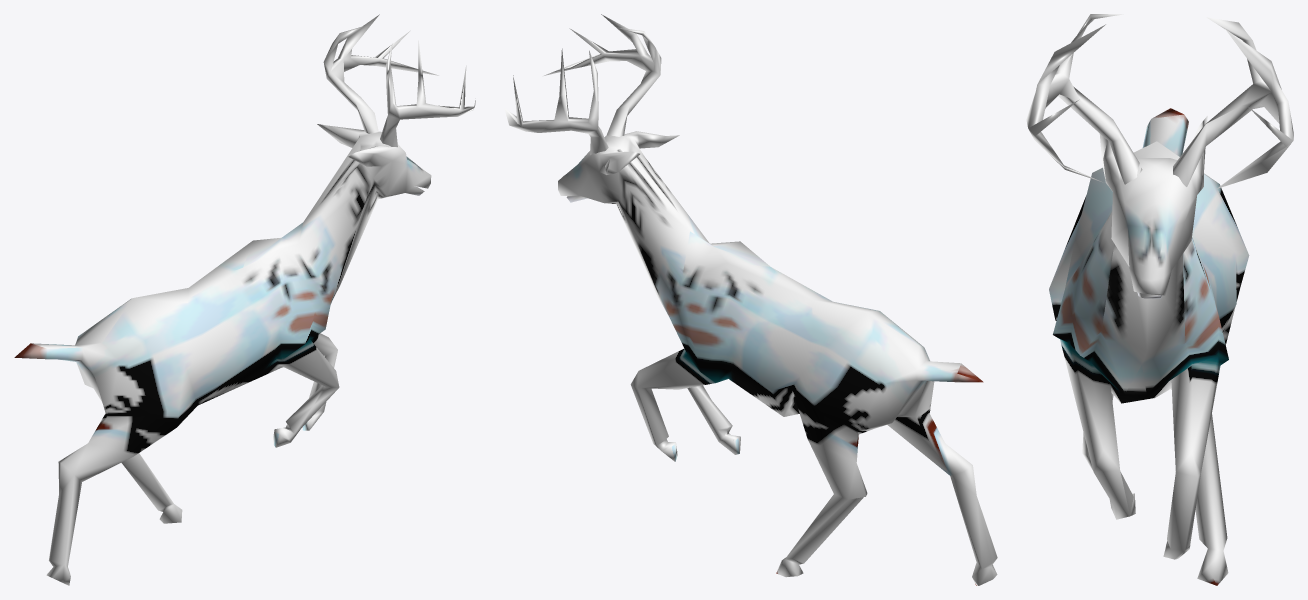
File: copy.ico.obj
3 views of the same model, side by side, from view 1: azimuth 30°, elevation 25°; view 2: azimuth 150°, elevation 25°; view 3: azimuth 270°, elevation 25° (orthographic). The views are drawn at different scales.
Bounding box in the file's own units: 4.66 × 4.64 × 1.56.
